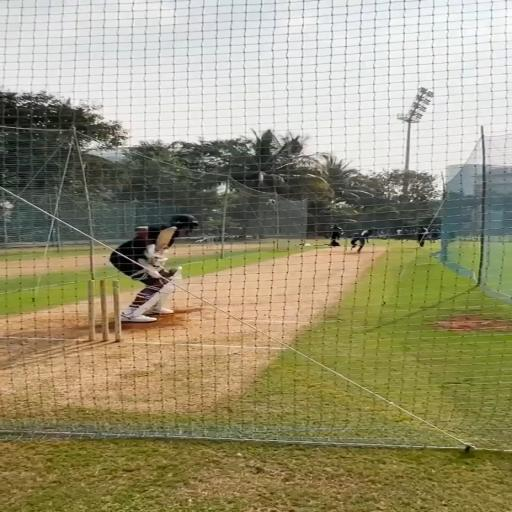Cricket bat: (155, 228, 175, 252)
